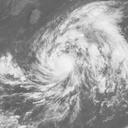cyclone: (34, 32, 92, 96)
